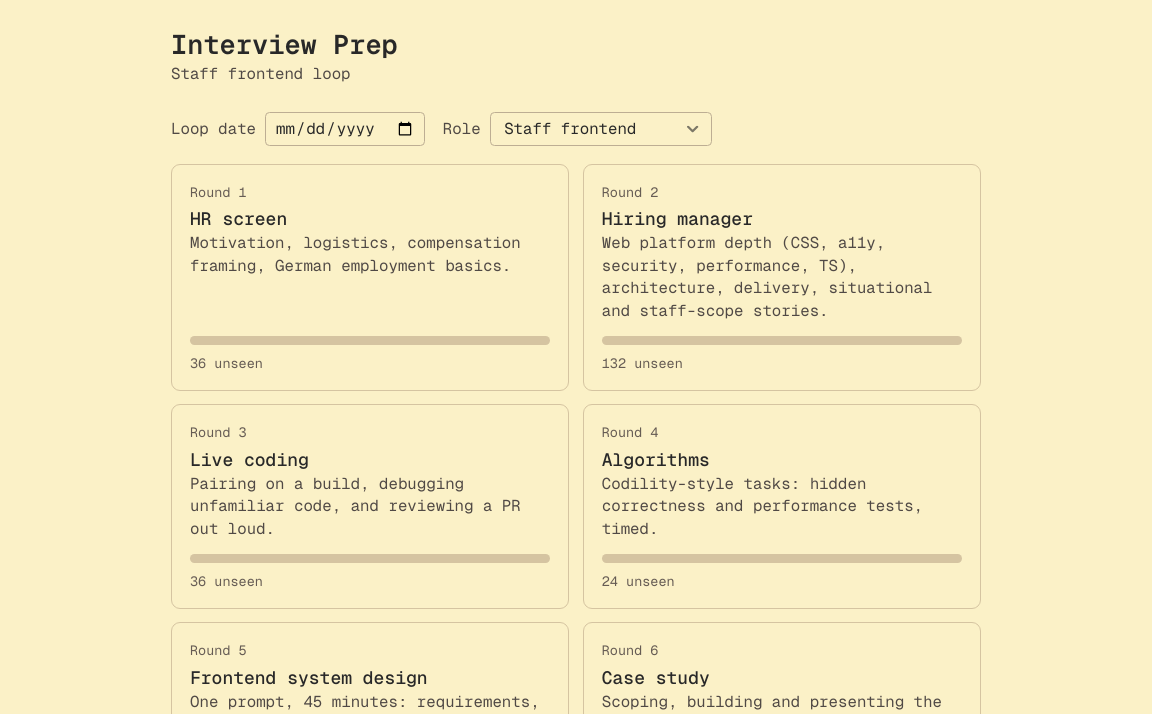
Test case: Home › switching to a full-stack role adds the Backend & data card
The width and height of the screenshot is (1152, 714).
Expected: the text "Backend & data" is not shown
Select "Senior full-stack" in the dropdown labelled "Role": (601, 129) [490,112,712,146]
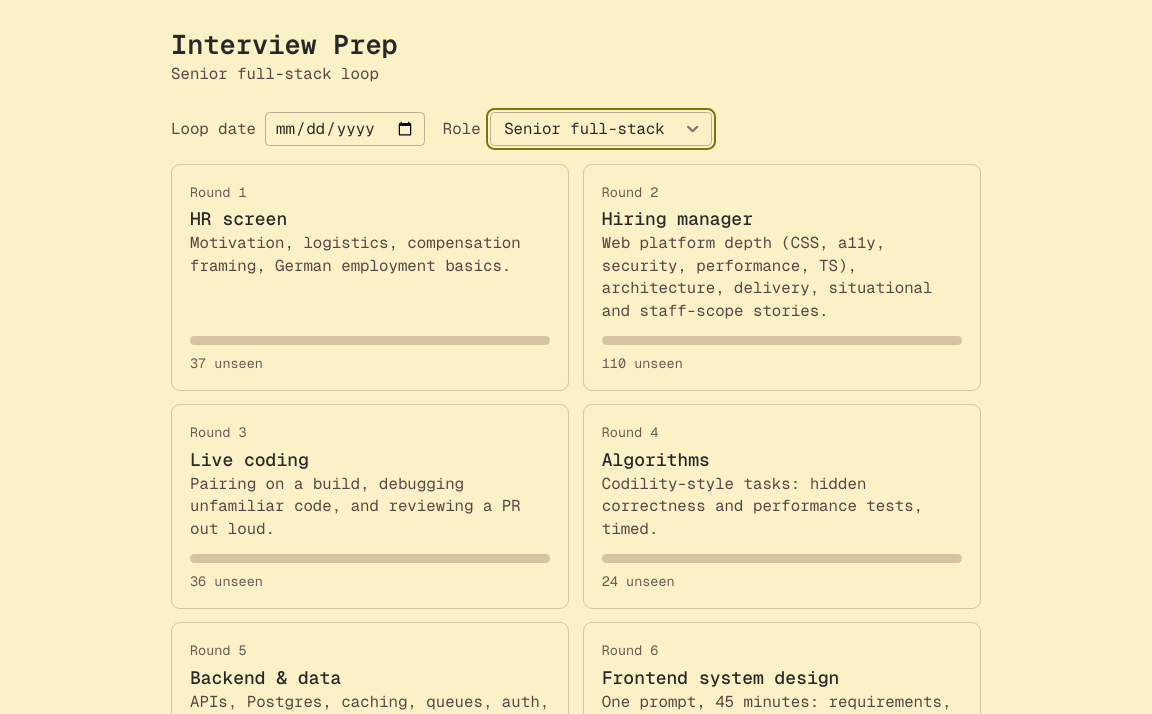
Expected: the heading "Live coding" is shown, [190,448,309,471]
Expected: the heading "Backend & data" is shown, [190,666,341,689]
